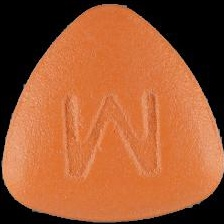0378-6097: (0, 0, 224, 224)
